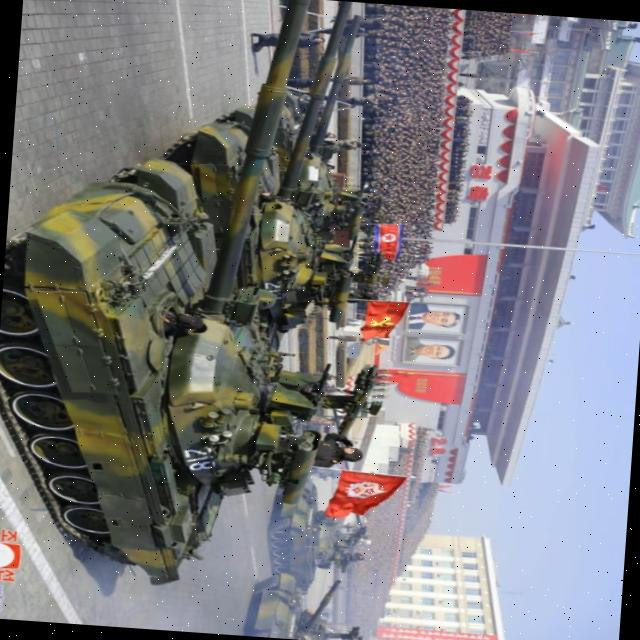north tank: (0, 0, 401, 619), (113, 0, 377, 337), (233, 14, 397, 248), (258, 466, 383, 594), (227, 566, 367, 640)
